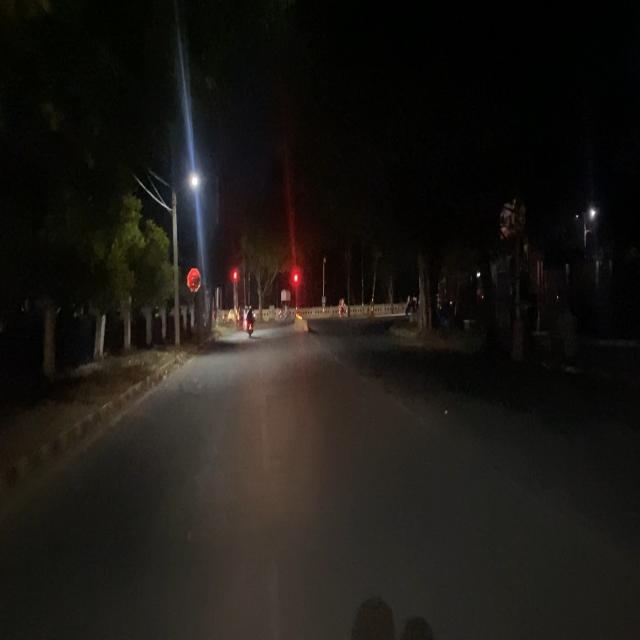bien_cam: (188, 264, 202, 293)
